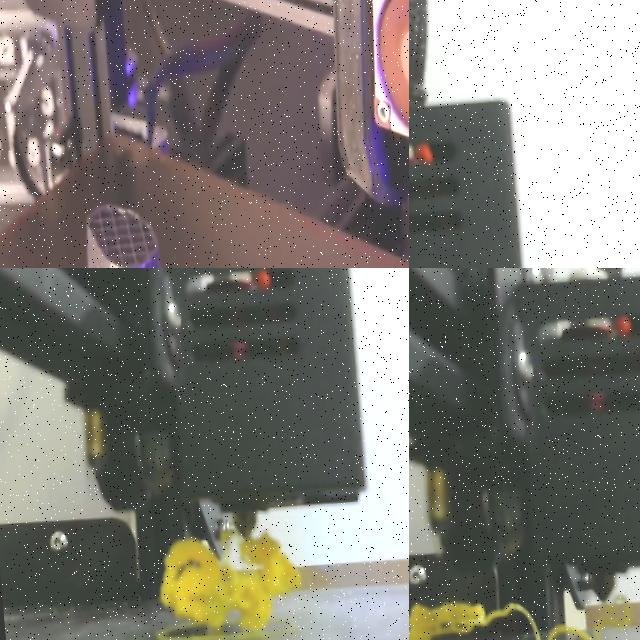spaghetti: (160, 533, 301, 630), (409, 599, 631, 640)
